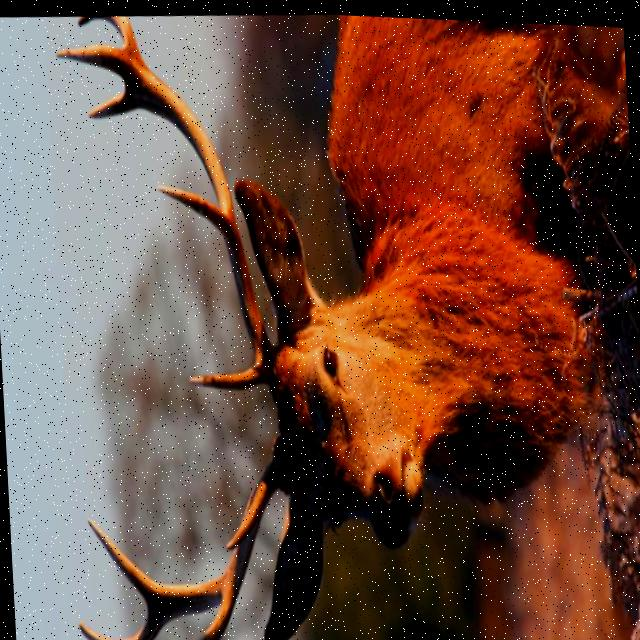L-F: (55, 43, 284, 403)
L-G1: (188, 356, 266, 389)
L-G2: (156, 182, 220, 231)
L-G3: (88, 84, 141, 118)
L-G4: (77, 14, 142, 54)
R-G1: (224, 477, 267, 549)
R-G2: (192, 598, 237, 640)
R-G3: (78, 603, 172, 640)
